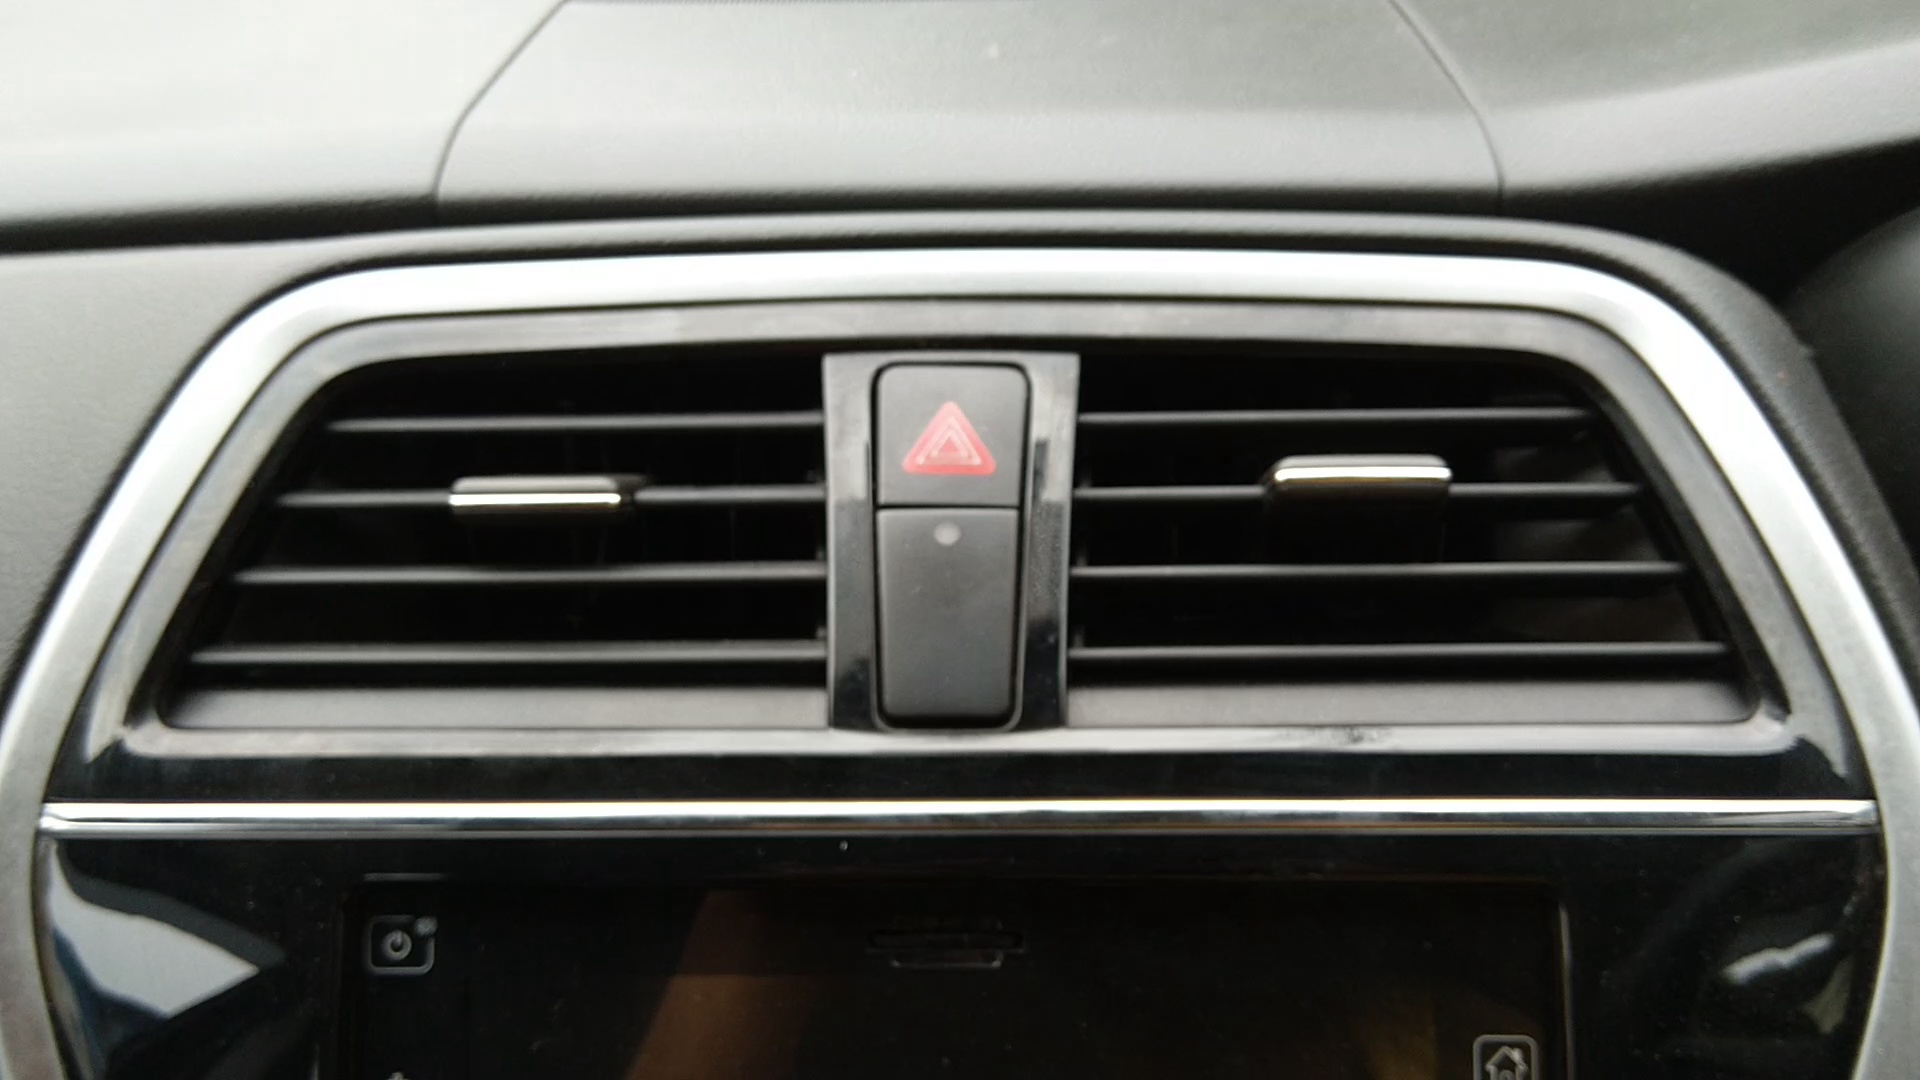parking_button: (884, 380, 1014, 487)
